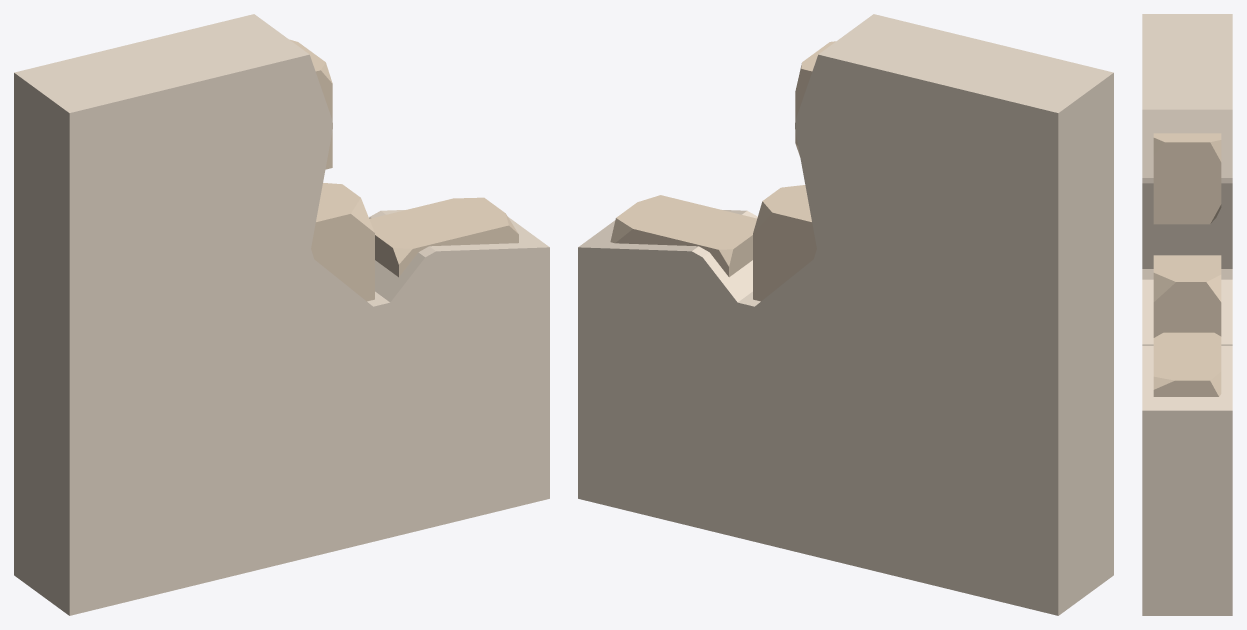
File: temple_Wall_Ruined_Corner_Inner_1.glb
3 renders of one model, left to right at view 1: azimuth 30°, elevation 25°; view 2: azimuth 150°, elevation 25°; view 3: azimuth 270°, elevation 25°, orthographic. The views are drawn at different scales.
Visible parts, largest first — view 1: object1; view 2: object1; view 3: object1.
Part boxes in pixels (box(x1,y1,x2,y2)): object1: box(14, 14, 549, 615); object1: box(578, 14, 1113, 615); object1: box(1142, 14, 1232, 615).
Bounding box in the file's own units: 1 × 1 × 0.2.
